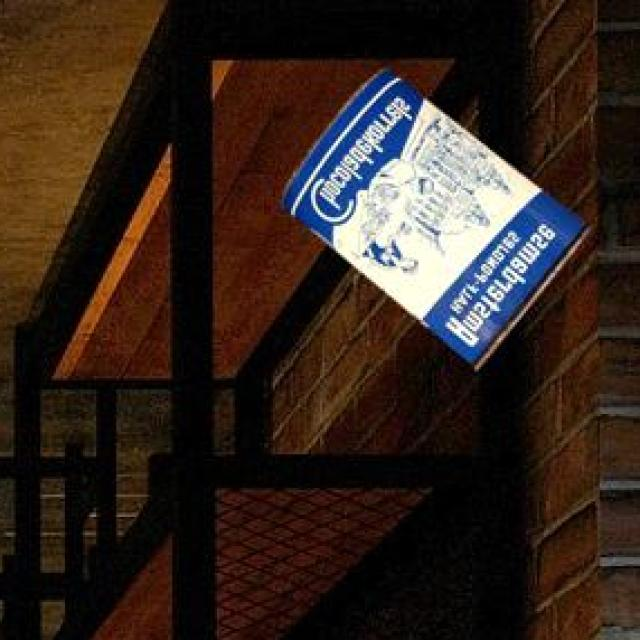logam: (276, 70, 587, 373)
